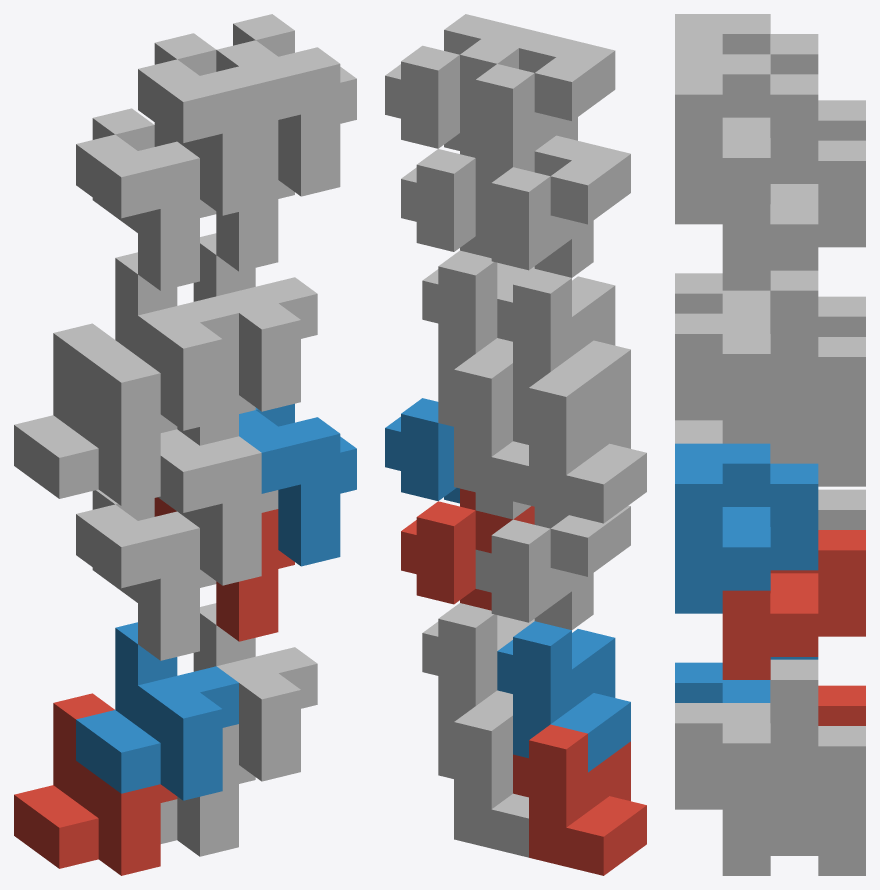
The model's file is tiling.obj.
3 views of the same model, side by side, from view 1: azimuth 30°, elevation 25°; view 2: azimuth 150°, elevation 25°; view 3: azimuth 270°, elevation 25° (orthographic). The views are drawn at different scales.
Parts seen in each view (by area): view 1: copy_1_domain_4, copy_1_domain_2, copy_2_domain_4, copy_2_domain_3, copy_1_domain_1, copy_1_domain_3, copy_2_domain_1, copy_2_domain_8, copy_2_domain_2, copy_2_domain_6, copy_1_domain_6, copy_1_domain_8 (+4 smaller); view 2: copy_2_domain_3, copy_1_domain_1, copy_1_domain_3, copy_2_domain_4, copy_1_domain_2, copy_1_domain_4, copy_2_domain_1, copy_2_domain_8, copy_1_domain_5, copy_1_domain_7, copy_1_domain_8, copy_1_domain_6 (+4 smaller); view 3: copy_2_domain_6, copy_2_domain_8, copy_1_domain_8, copy_1_domain_6, copy_2_domain_7, copy_2_domain_5, copy_1_domain_5, copy_1_domain_7, copy_2_domain_4, copy_1_domain_4, copy_1_domain_2, copy_1_domain_1 (+4 smaller).
Part boxes in pixels (x1,y1,x2,y2): copy_1_domain_4: (76,252,238,430); copy_1_domain_2: (76,622,238,800); copy_2_domain_4: (138,33,278,215); copy_2_domain_3: (76,108,216,290); copy_1_domain_1: (14,693,177,875); copy_1_domain_3: (14,323,177,505); copy_2_domain_1: (76,489,216,660); copy_2_domain_8: (216,14,356,196); copy_2_domain_2: (158,429,278,585); copy_2_domain_6: (239,403,356,566); copy_1_domain_6: (193,603,317,781); copy_1_domain_8: (193,233,317,411); copy_2_domain_3: (475,135,630,277); copy_1_domain_1: (513,724,646,875); copy_1_domain_3: (513,372,646,523); copy_2_domain_4: (460,32,615,166); copy_1_domain_2: (497,621,630,772); copy_1_domain_4: (497,269,630,419); copy_2_domain_1: (475,505,630,630); copy_2_domain_8: (385,14,539,150); copy_1_domain_5: (438,706,528,857); copy_1_domain_7: (438,354,528,505); copy_1_domain_8: (422,250,534,387); copy_1_domain_6: (422,603,534,739); copy_2_domain_6: (675,443,818,613); copy_2_domain_8: (675,54,818,224); copy_1_domain_8: (675,270,818,420); copy_1_domain_6: (675,659,818,809); copy_2_domain_7: (722,140,865,290); copy_2_domain_5: (722,530,865,679); copy_1_domain_5: (722,726,865,875); copy_1_domain_7: (722,337,865,486); copy_2_domain_4: (675,14,818,74); copy_1_domain_4: (675,267,818,313); copy_1_domain_2: (675,657,818,702); copy_1_domain_1: (818,685,865,725).
Size of the model in its own units: 7 by 19 by 4.
